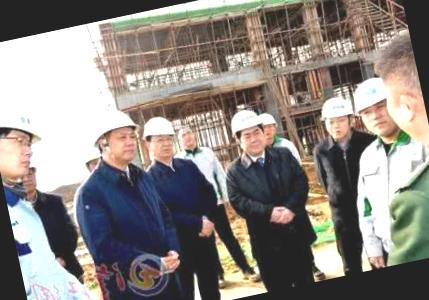no_helmet: (367, 30, 429, 138)
